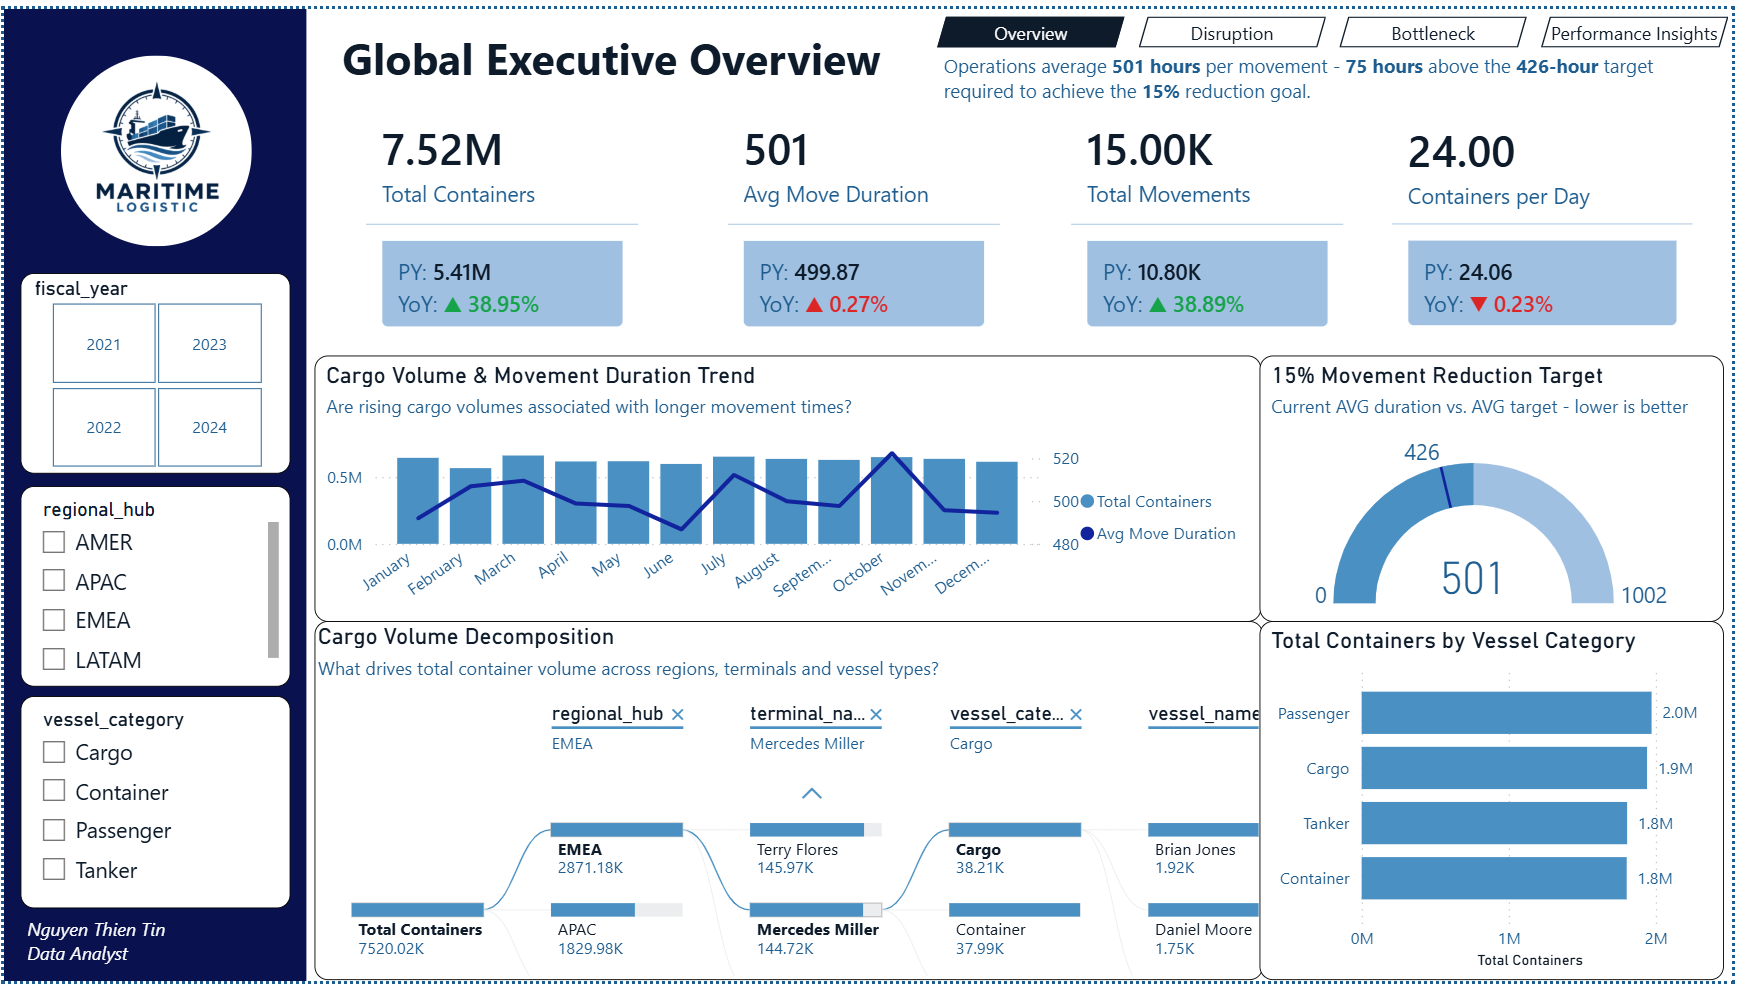

This screenshot's page, from the dashboard's own definition file:
{"tool":"powerbi","page":{"name":"Overview","canvas":[1280,720],"ordinal":0},"visuals":[{"type":"shape","title":"BG1","box":[0,0,224.3,720],"z":0},{"type":"cardVisual","fields":{"Data":["fact_cargo_movements.Total_Cargo_Movements"]},"box":[781.2,60.8,220,195],"z":1000},{"type":"cardVisual","fields":{"Data":["fact_cargo_movements.Total_Containers_Moved"]},"box":[258.8,60.8,220,195],"z":2000},{"type":"cardVisual","fields":{"Data":["fact_cargo_movements.Avg Move Duration"]},"box":[526.2,60.8,220,195],"z":3000},{"type":"cardVisual","fields":{"Data":["fact_cargo_movements.Containers per Hour"]},"box":[1018.8,62.5,241.2,193.8],"z":4000},{"type":"lineClusteredColumnComboChart","title":"Cargo Volume & Movement Duration Trend","fields":{"Y":["fact_cargo_movements.Total Containers"],"Y2":["fact_cargo_movements.Avg Move Duration"],"Category":["dim_time.date_id.Variation.Date Hierarchy.Month"]},"box":[230,256.2,701.2,197.5],"z":5000},{"type":"gauge","title":"15% Movement Reduction Target","fields":{"Y":["fact_cargo_movements.Avg Move Duration"],"TargetValue":["fact_cargo_movements.Target Avg Duration"]},"box":[930,256.2,343.8,197.5],"z":6000},{"type":"decompositionTreeVisual","title":"Cargo Volume Decomposition","fields":{"Analyze":["fact_cargo_movements.Total Containers"],"ExplainBy":["dim_terminal.regional_hub","dim_terminal.terminal_name","dim_vessel.vessel_category","dim_vessel.vessel_name"]},"box":[230,453.8,702.5,266.2],"z":7000},{"type":"slicer","fields":{"Values":["dim_time.fiscal_year"]},"box":[12.5,195,200,148.8],"z":8000},{"type":"clusteredBarChart","title":"Total Containers by Vessel Category","fields":{"Category":["dim_vessel.vessel_category"],"Y":["fact_cargo_movements.Total Containers"]},"box":[930,453.8,343.8,266.2],"z":9000},{"type":"slicer","fields":{"Values":["dim_terminal.regional_hub"]},"box":[12.5,353.8,200,148.8],"z":10000},{"type":"slicer","fields":{"Values":["dim_vessel.vessel_category"]},"box":[12.5,508.8,200,157.5],"z":11000},{"type":"image","box":[42.2,34.4,141.1,141.1],"z":12000},{"type":"textbox","box":[245.4,8.5,432.3,53.8],"z":13000},{"type":"textbox","box":[12.5,666.2,156.2,53.8],"z":14000},{"type":"textbox","box":[691.2,26.2,588.8,49.6],"z":15000},{"type":"pageNavigator","box":[691.2,5,588.8,23.8],"z":16000}]}

Visuals, with their boxes in screenshot pixels (x1, y1, x2, y2), scaled from the page's 1280x720 canvas onto the 1738x990 screenshot:
"BG1" shape: [0, 0, 305, 989]
cardVisual - fact_cargo_movements.Total_Cargo_Movements: [1061, 84, 1359, 352]
cardVisual - fact_cargo_movements.Total_Containers_Moved: [351, 84, 650, 352]
cardVisual - fact_cargo_movements.Avg Move Duration: [714, 84, 1013, 352]
cardVisual - fact_cargo_movements.Containers per Hour: [1383, 86, 1711, 352]
"Cargo Volume & Movement Duration Trend" lineClusteredColumnComboChart: [312, 352, 1264, 624]
"15% Movement Reduction Target" gauge: [1263, 352, 1730, 624]
"Cargo Volume Decomposition" decompositionTreeVisual: [312, 624, 1266, 989]
slicer - dim_time.fiscal_year: [17, 268, 289, 473]
"Total Containers by Vessel Category" clusteredBarChart: [1263, 624, 1730, 989]
slicer - dim_terminal.regional_hub: [17, 486, 289, 691]
slicer - dim_vessel.vessel_category: [17, 700, 289, 916]
image: [57, 47, 249, 241]
textbox: [333, 12, 920, 86]
textbox: [17, 916, 229, 989]
textbox: [939, 36, 1737, 104]
pageNavigator: [939, 7, 1737, 40]
